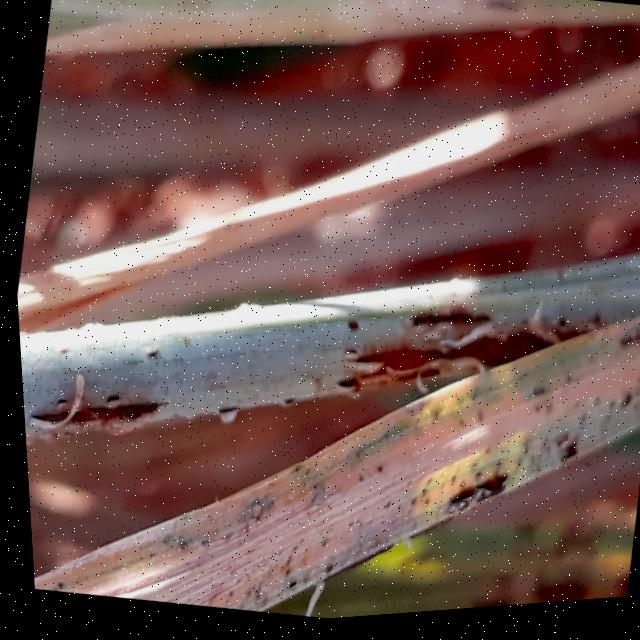black_stem_rust: (6, 101, 640, 640), (33, 0, 640, 212)
